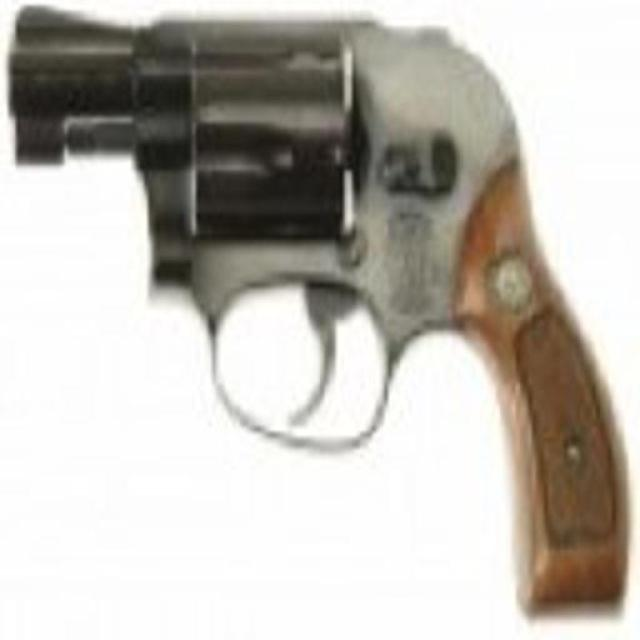pistol: (3, 5, 631, 640)
